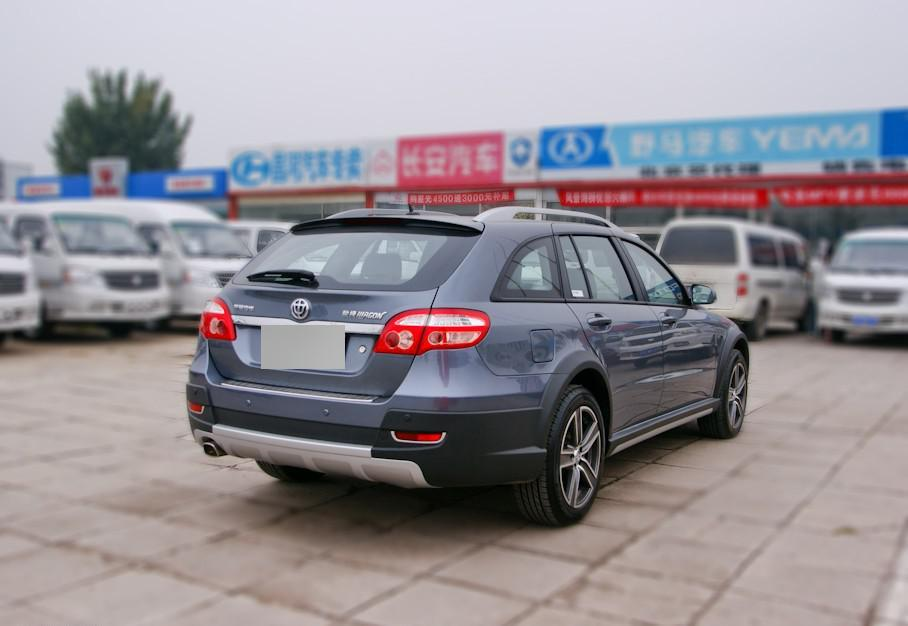Wagon: (188, 204, 750, 529)
